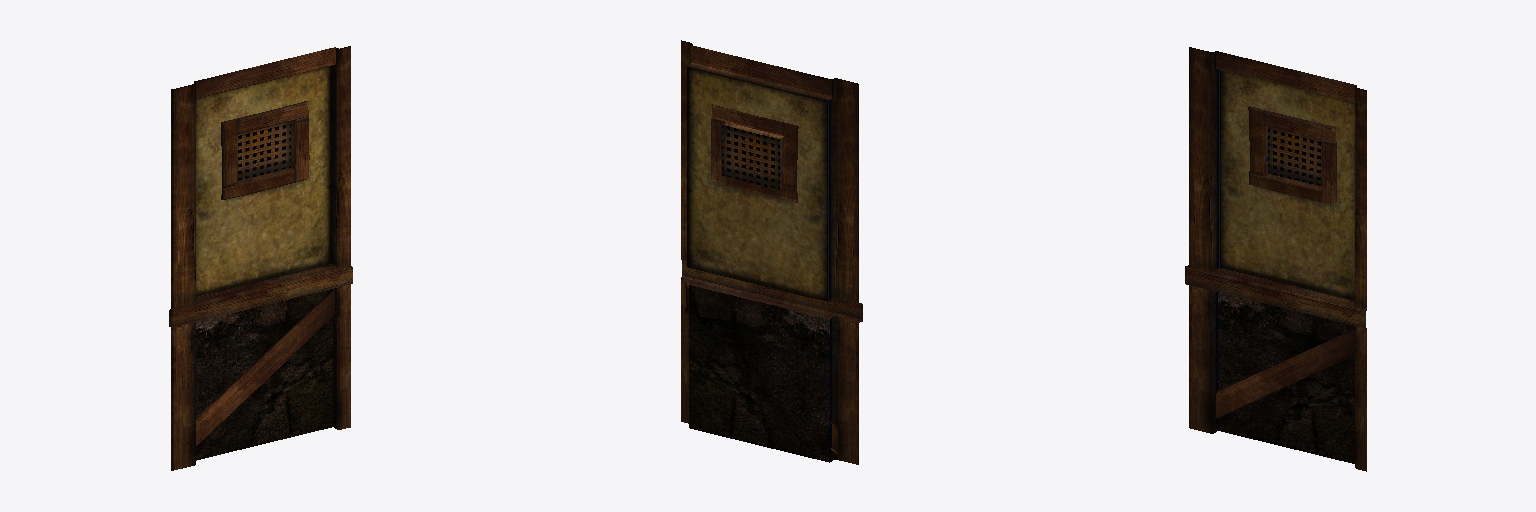
3 renders of one model, left to right at view 1: azimuth 30°, elevation 25°; view 2: azimuth 150°, elevation 25°; view 3: azimuth 330°, elevation 25°, orthographic.
Visible parts, largest first — view 1: Wall001_C019; view 2: Wall001_C019; view 3: Wall001_C019.
Boxes of the visible parts, <box> form: Wall001_C019: <box>169,46,352,470</box>; Wall001_C019: <box>681,40,862,464</box>; Wall001_C019: <box>1185,47,1366,471</box>.
Size of the model in its own units: 128 by 256 by 13.36.
1 materials, 1 textured.